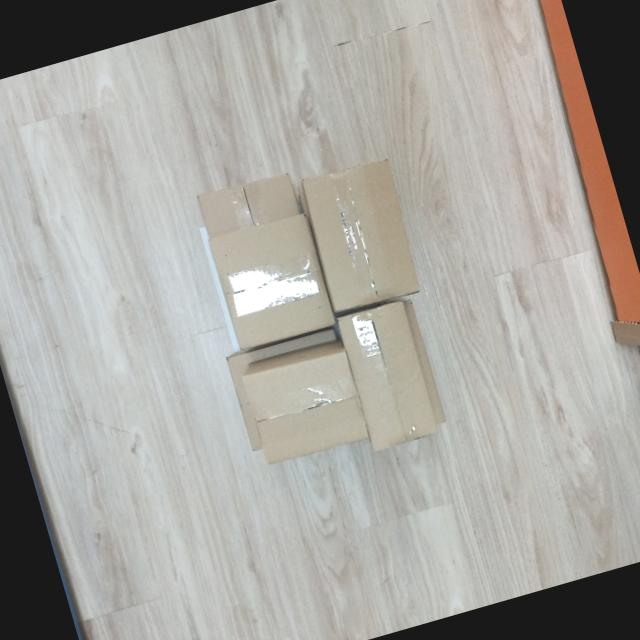box: (292, 152, 432, 319), (203, 209, 340, 355), (330, 293, 449, 456), (235, 333, 373, 470)
